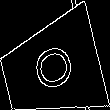O_W: (26, 41, 77, 97)
